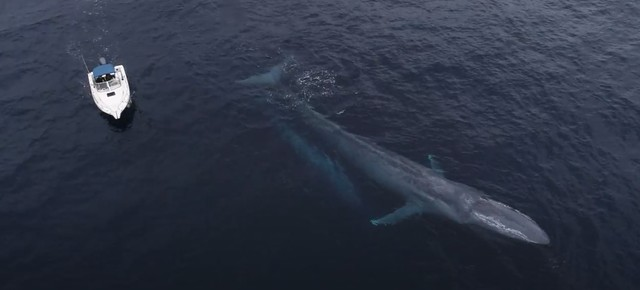whale: (229, 49, 563, 268), (246, 90, 369, 220)
